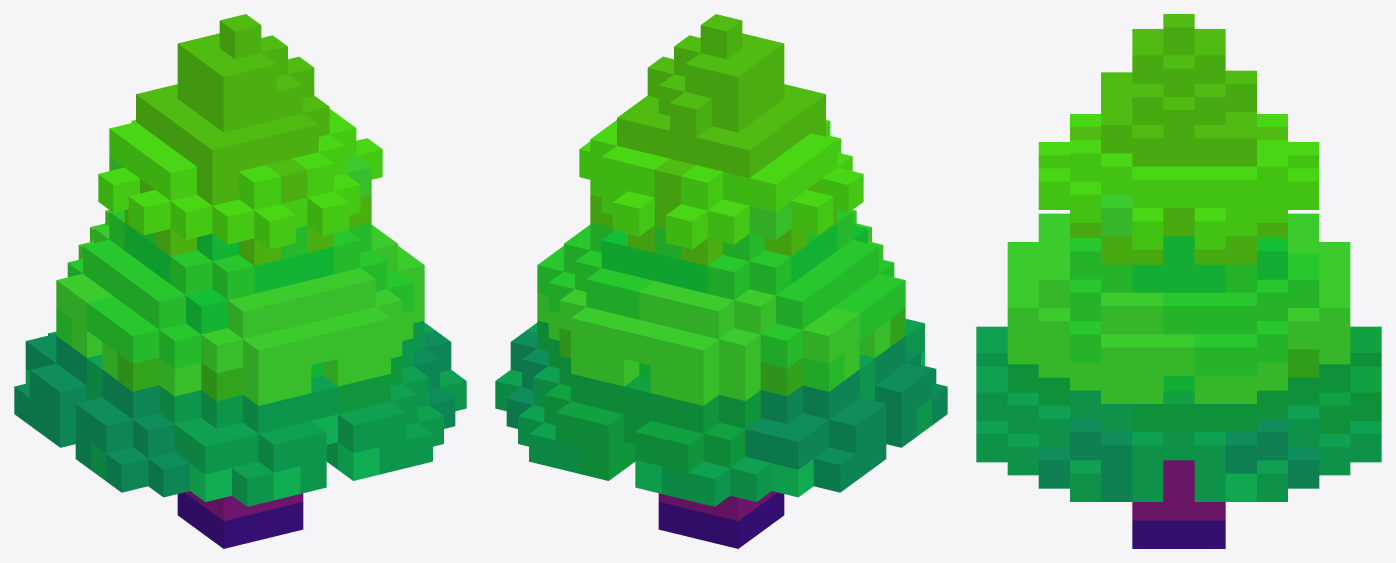
File: overseer-tree-1-named-nodes.glb
3 renders of one model, left to right at view 1: azimuth 30°, elevation 25°; view 2: azimuth 150°, elevation 25°; view 3: azimuth 270°, elevation 25°, orthographic.
Visible parts, largest first — view 1: geometry_0; view 2: geometry_0; view 3: geometry_0.
Part boxes in pixels (<box>): geometry_0: <box>14,14,466,548</box>; geometry_0: <box>495,14,947,548</box>; geometry_0: <box>976,14,1381,548</box>.
Bounding box in the file's own units: 0.7655 × 1.06 × 0.7655.
1 material, 1 textured.
